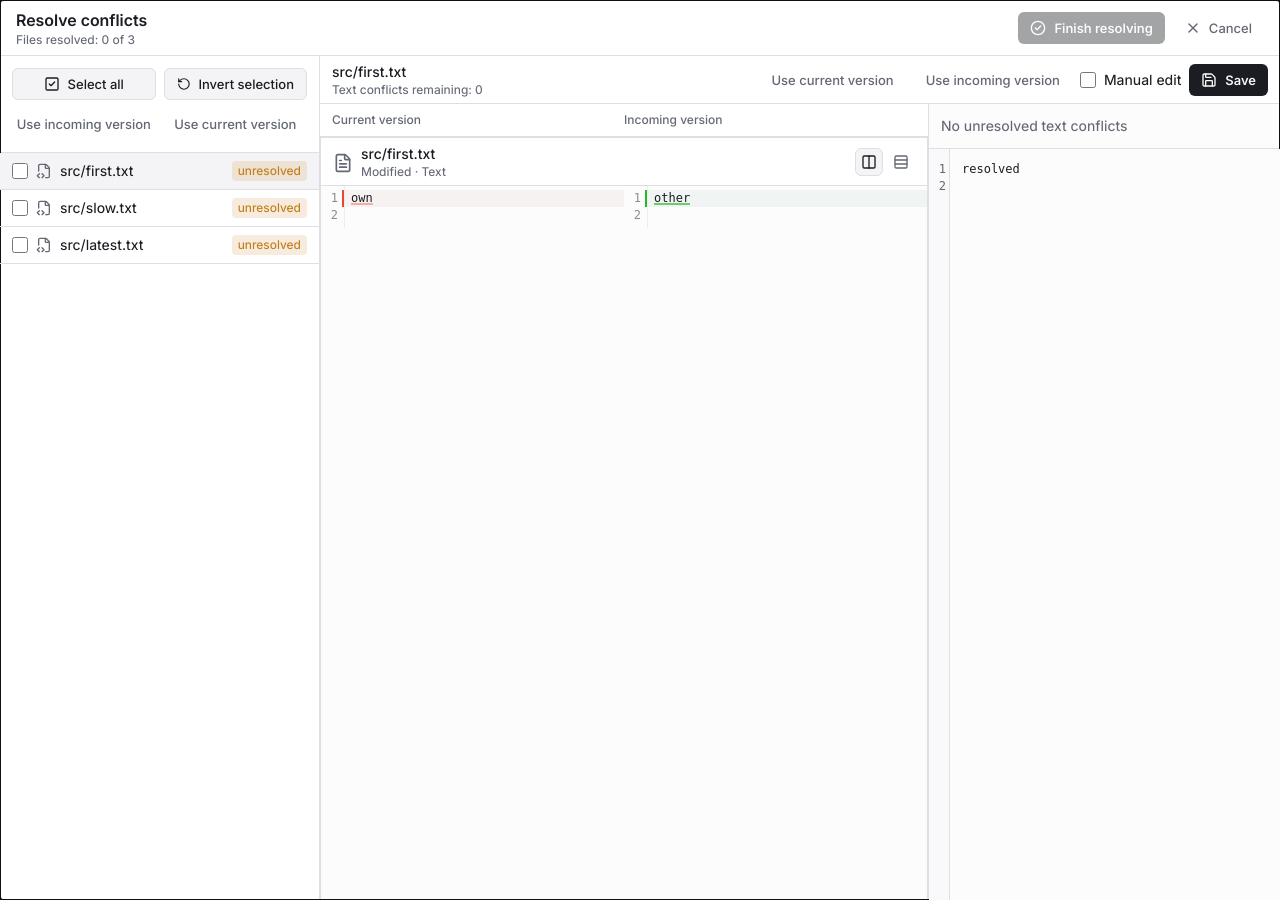
Scenario: ConflictResolutionOverlay › hides stale details and ignores a slow response after selecting another file
Expected: the field named "Resolved file content" is shown, [962, 162, 1020, 176]
Click the button "src/slow.txt unresolved": (98, 208) [0, 190, 319, 227]
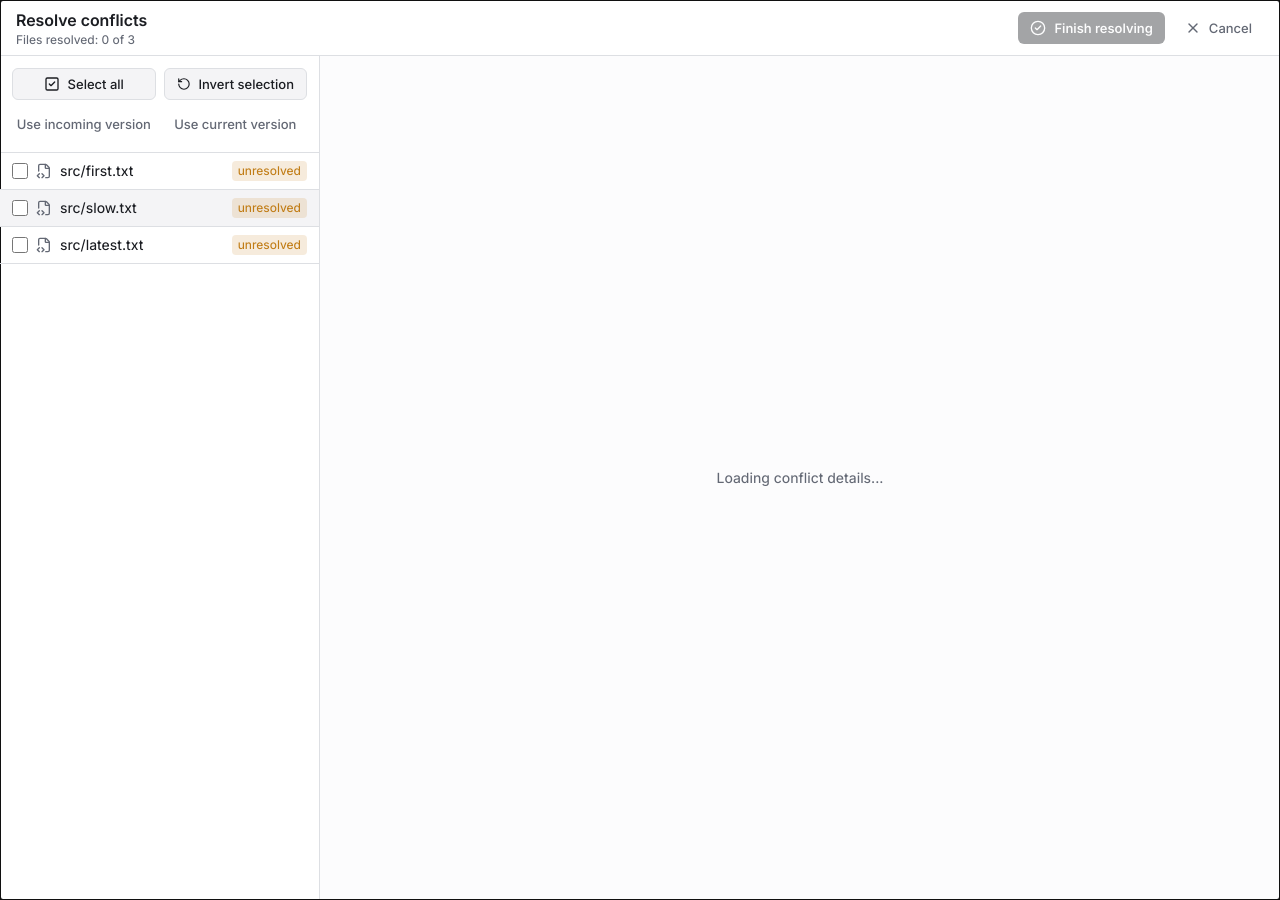
Result: the text "Loading conflict details..." is shown at [716, 469, 884, 486]
Click the button "src/latest.txt unresolved": (102, 244) [0, 227, 319, 264]
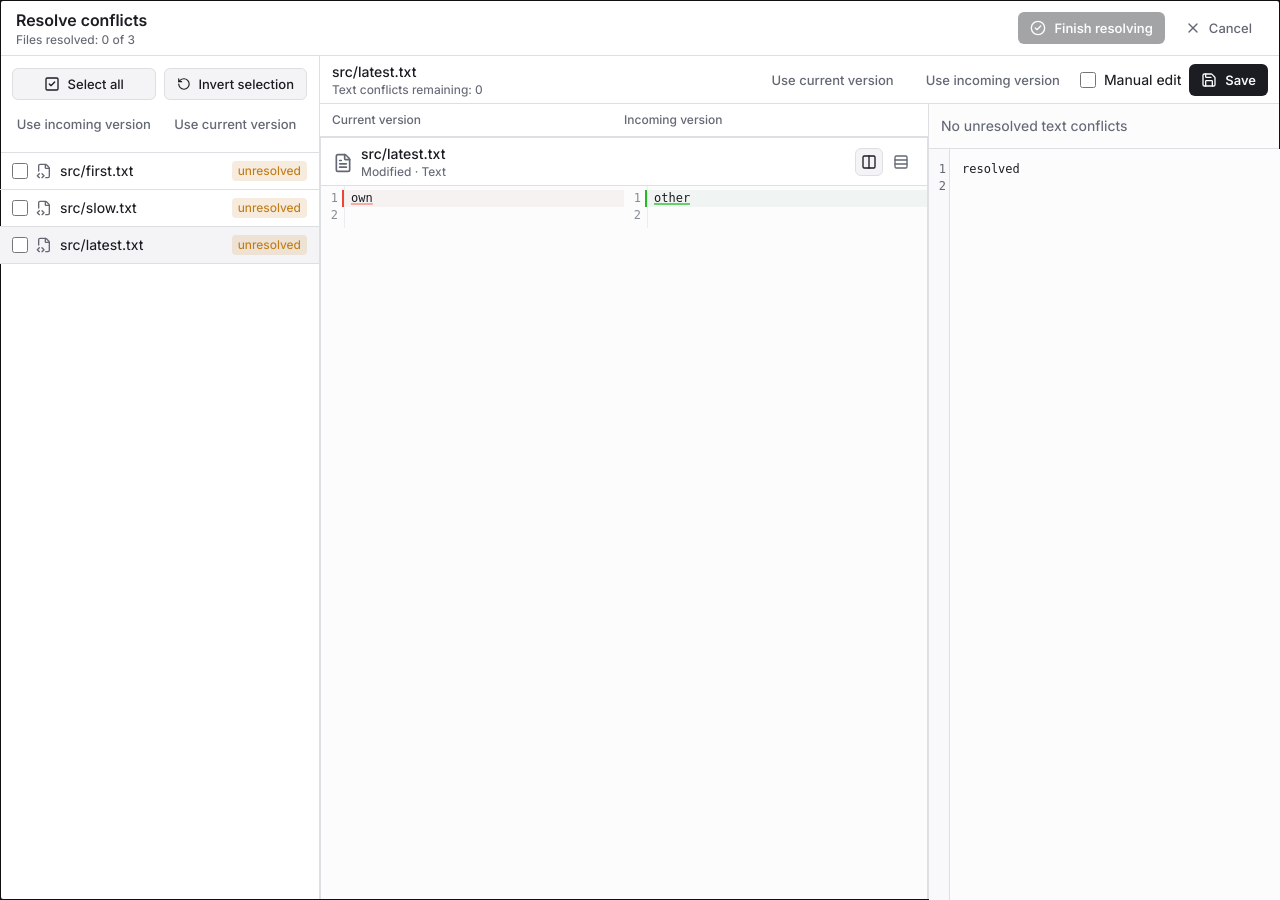
Result: the 2nd text "src/latest.txt" is shown at [361, 144, 446, 164]
